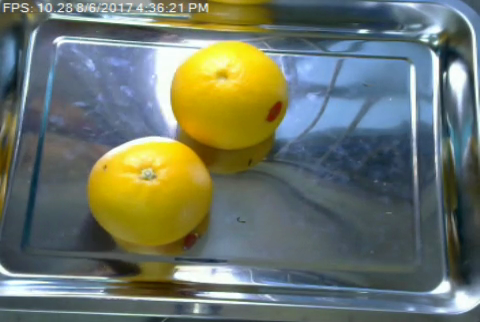Orange: (85, 135, 212, 246), (169, 39, 289, 148)
